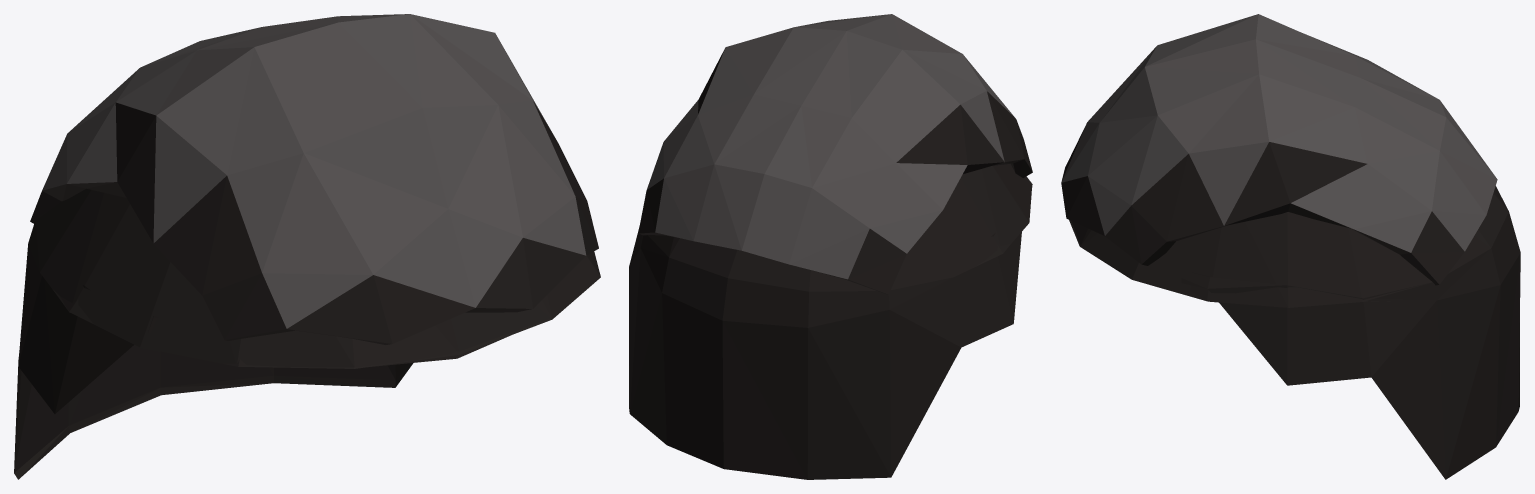
Rendered from hair_undercut_01.glb.
3 views of the same model, side by side, from view 1: azimuth 30°, elevation 25°; view 2: azimuth 150°, elevation 25°; view 3: azimuth 270°, elevation 25° (orthographic). The views are drawn at different scales.
Parts seen in each view (by area): view 1: hair_undercut_01; view 2: hair_undercut_01; view 3: hair_undercut_01.
Part boxes in pixels (<box>): hair_undercut_01: <box>14,14,600,479</box>; hair_undercut_01: <box>629,14,1032,479</box>; hair_undercut_01: <box>1061,14,1520,479</box>.
Size of the model in its own units: 0.2634 by 0.2453 by 0.2734.
1 material, 1 textured.
